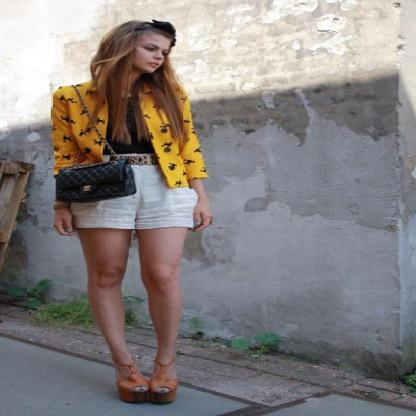bag: (54, 158, 135, 205)
jacket: (51, 82, 206, 186)
shirt: (103, 95, 159, 157)
shoe: (118, 383, 173, 405)
shorts: (74, 165, 196, 228)
